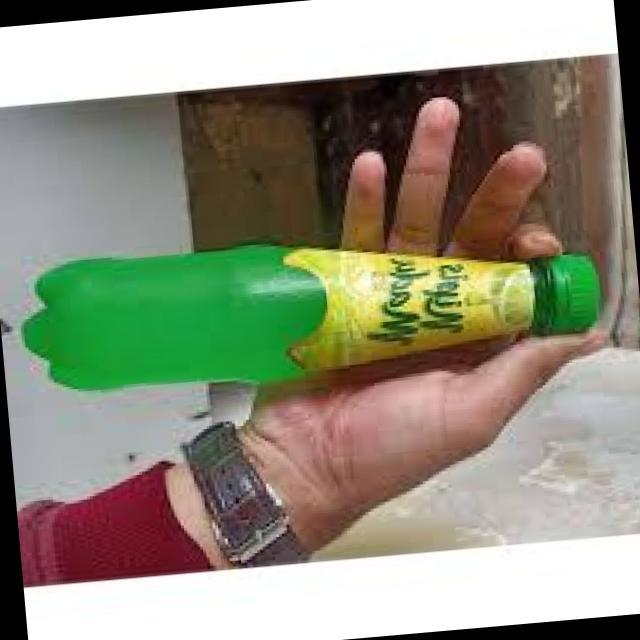good: (2, 192, 630, 436)
